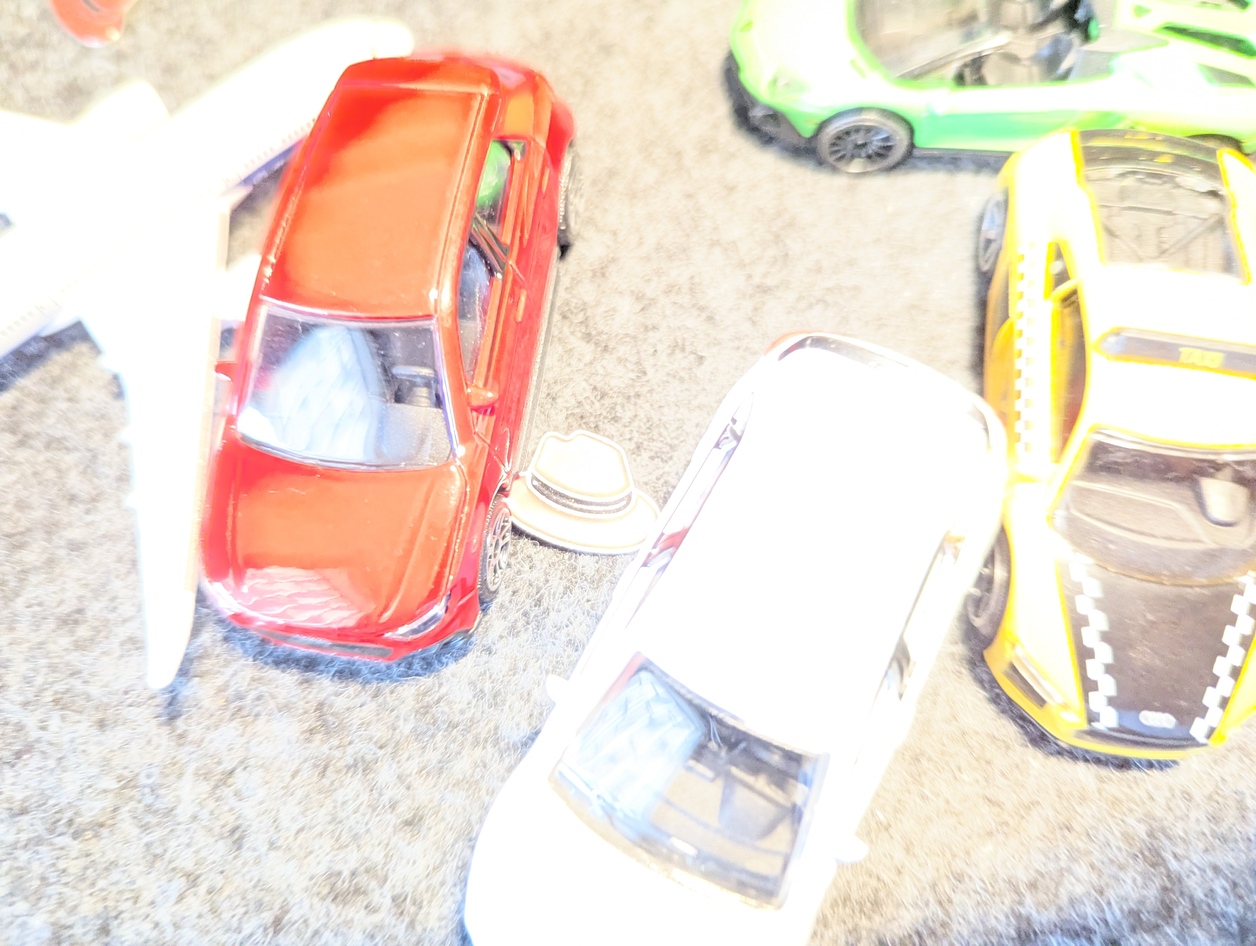Airplane: (0, 1, 488, 699)
Car: (456, 319, 1025, 946), (202, 27, 593, 700), (941, 112, 1256, 768), (702, 0, 1256, 170)
Red-Hat: (467, 427, 703, 565)
